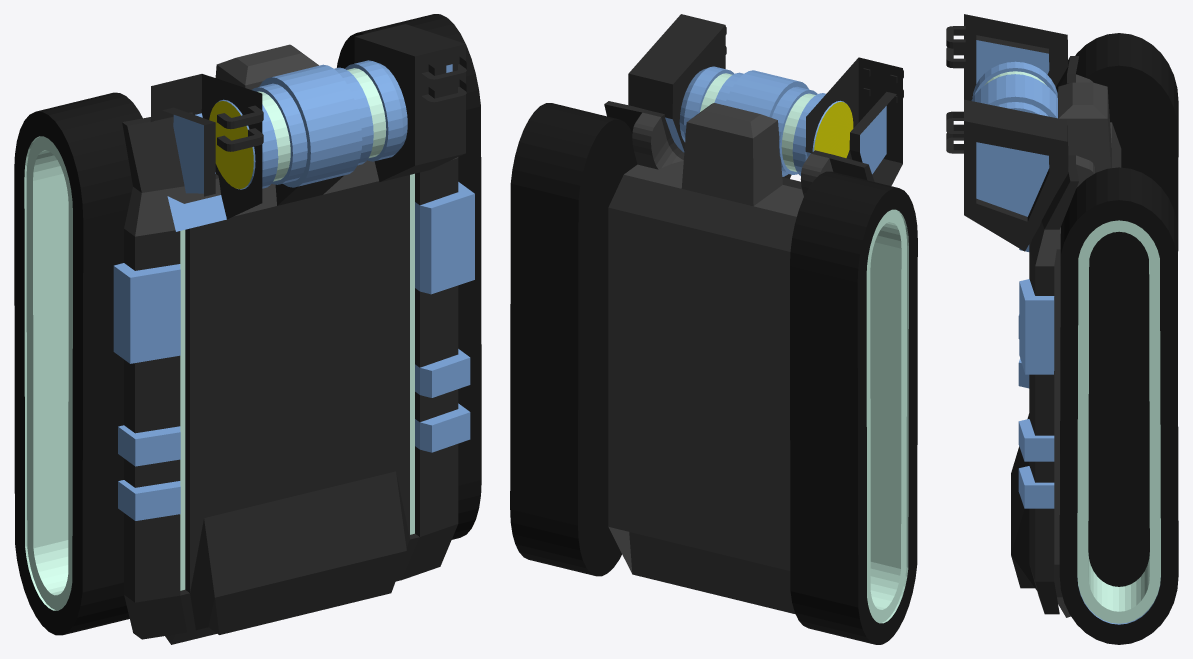
The model's file is bottomV4.fbx.
The picture shows the model from 3 angles, left to right: view 1: azimuth 30°, elevation 25°; view 2: azimuth 150°, elevation 25°; view 3: azimuth 270°, elevation 25°; orthographic projection. The views are drawn at different scales.
Parts seen in each view (by area): view 1: Cube.003; view 2: Cube.003; view 3: Cube.003.
Boxes of the visible parts, box(x1,y1,x2,y2) form: Cube.003: box(14, 14, 481, 644); Cube.003: box(510, 14, 917, 644); Cube.003: box(946, 14, 1178, 644).
Size of the model in its own units: 322 by 454 by 189.
